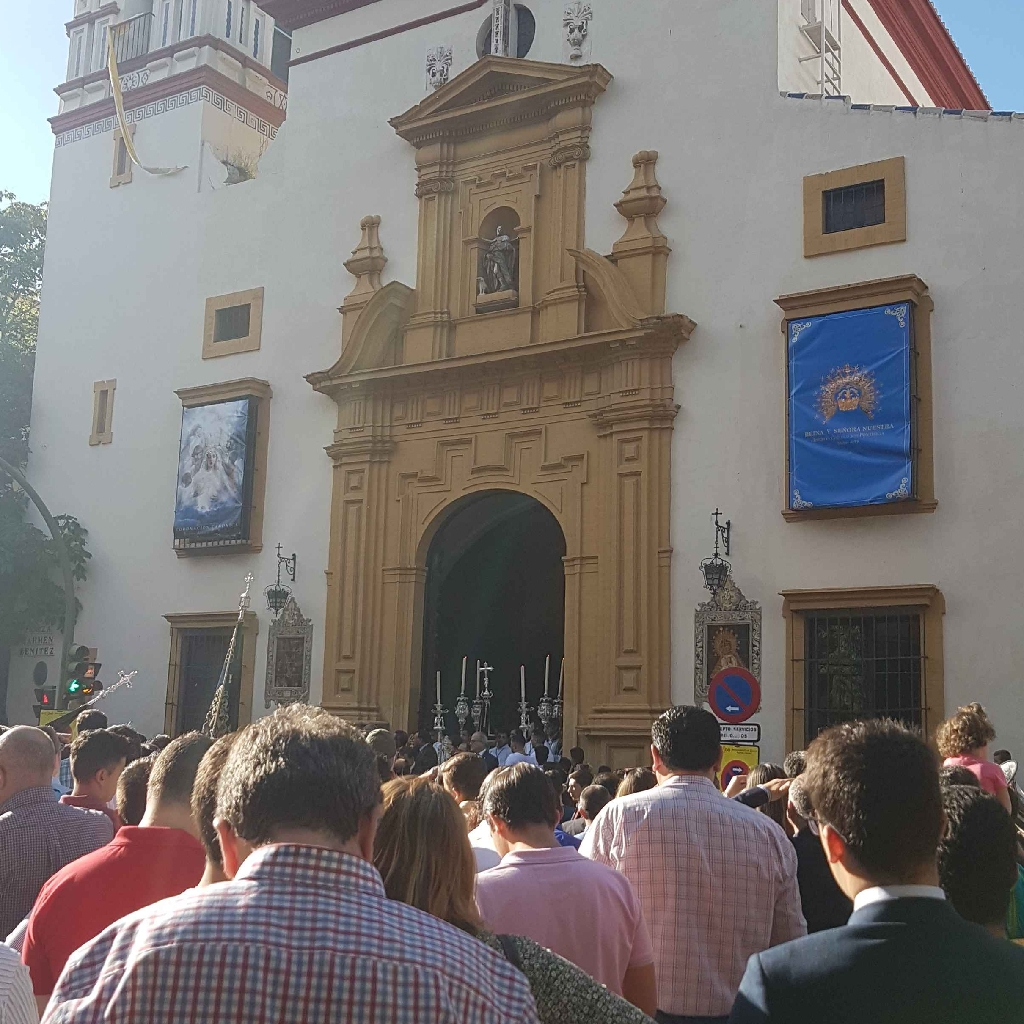arco-medio-punto: (412, 476, 573, 589)
fronton: (386, 50, 605, 124)
fronton-partido: (315, 248, 692, 382)
